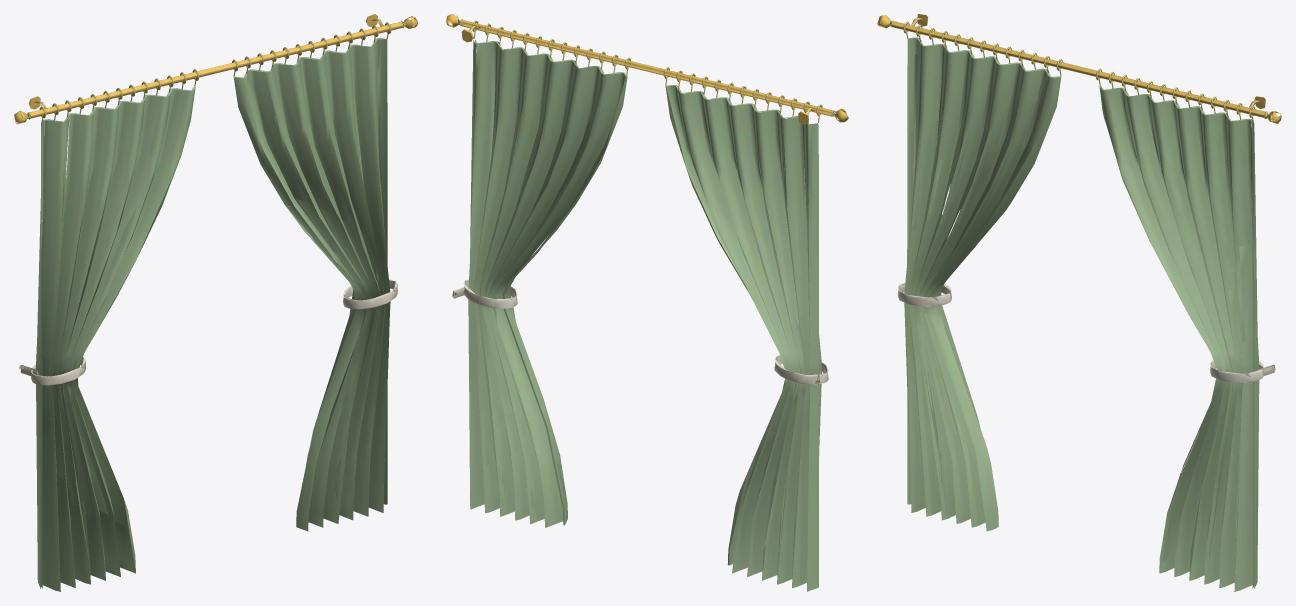
The model's file is curtains.glb.
3 views of the same model, side by side, from view 1: azimuth 30°, elevation 25°; view 2: azimuth 150°, elevation 25°; view 3: azimuth 330°, elevation 25° (orthographic).
Visible parts, largest first — view 1: curtains_body; view 2: curtains_body; view 3: curtains_body.
Part boxes in pixels (x1=…): curtains_body: x1=14, y1=14, x2=417, y2=591; curtains_body: x1=446, y1=14, x2=848, y2=591; curtains_body: x1=877, y1=14, x2=1281, y2=591.
Size of the model in its own units: 2.05 by 2.36 by 0.1907.
1 material, 1 textured.
